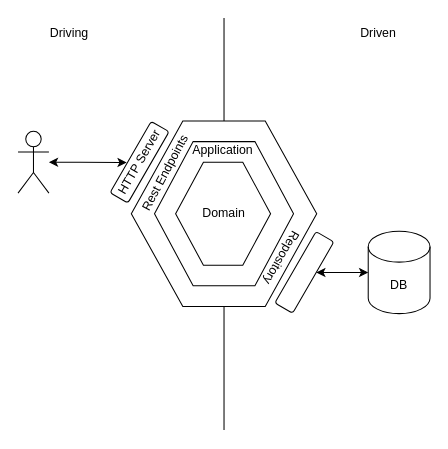
The diagram is 448 pixels wide and 449 high, and some of its shapes have lost their labels. The centre of each missing label's shape, as x and y in pixels:
"Actor" belongs at (x=33, y=161).
"DB Adapter" belongs at (x=304, y=271).
